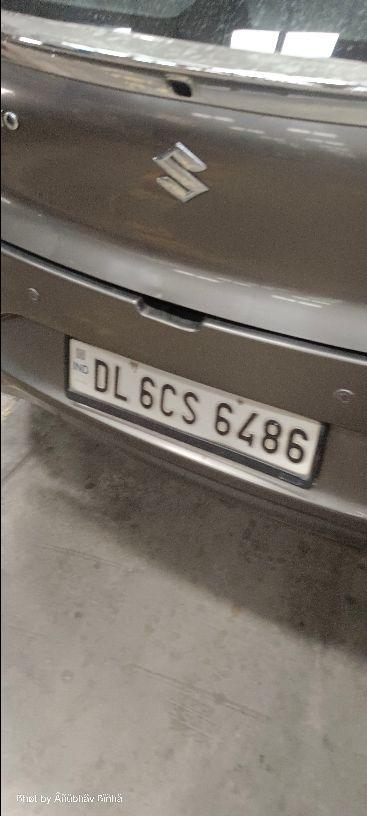license_plate: (63, 335, 329, 489)
